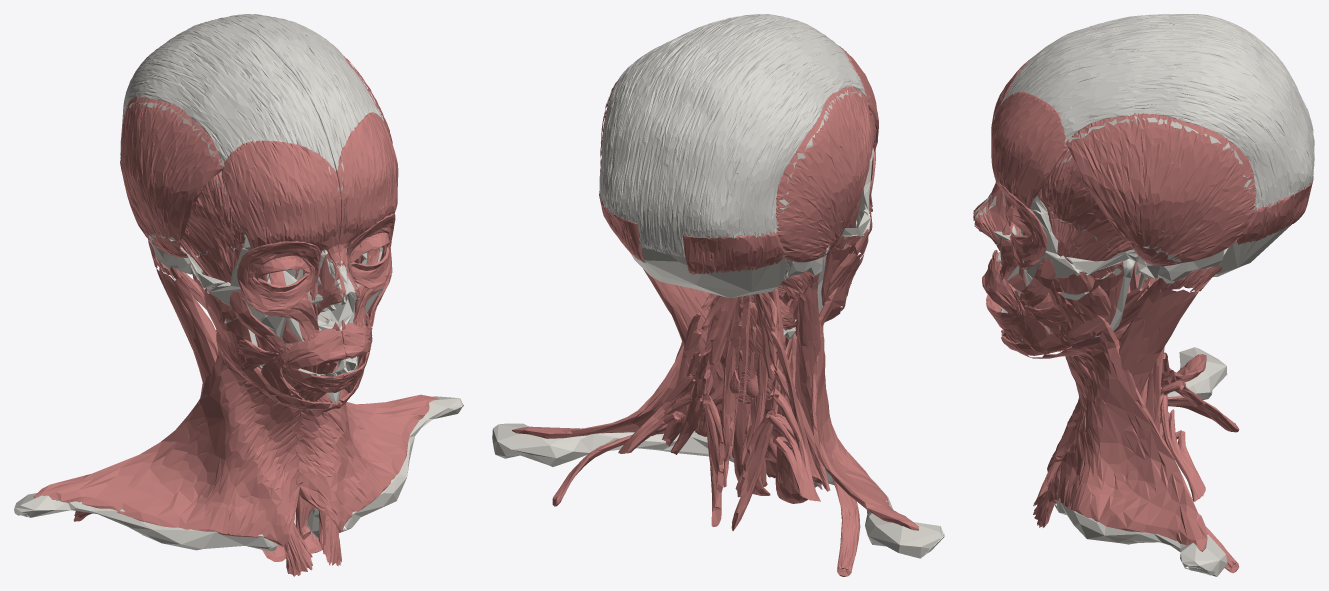
File: v3-musc-head-neck.glb
3 renders of one model, left to right at view 1: azimuth 30°, elevation 25°; view 2: azimuth 150°, elevation 25°; view 3: azimuth 270°, elevation 25°, orthographic.
Parts seen in each view (by area): view 1: Platysma.r#59, Epicranial aponeurosis.r#149, Platysma.l#50, Frontalis muscle.r#151, Temporoparietalis muscle.r#143, Epicranial aponeurosis.l#145, Frontalis muscle.l#147, Clavicle.r#177, Orbital part of orbicularis oculi.r#136, Temporalis muscle.r#73, Orbicularis oris muscle.r#132, Sternocleidomastoid muscle.r#64 (+19 smaller); view 2: Epicranial aponeurosis.r#149, Epicranial aponeurosis.l#145, Temporoparietalis muscle.r#143, Longus colli muscle.l#45, Platysma.r#59, Longus colli muscle.r#54, Clavicle.l#175, Occipital bone#274, Occipitalis muscle.r#150, Platysma.l#50, Sternocleidomastoid muscle.r#64, Sternocleidomastoid muscle.l#62 (+20 smaller); view 3: Epicranial aponeurosis.l#145, Temporoparietalis muscle.l#141, Platysma.l#50, Frontalis muscle.l#147, Sternocleidomastoid muscle.l#62, Epicranial aponeurosis.r#149, Temporalis muscle.l#71, Clavicle.l#175, Temporal bone.l#213, Occipitalis muscle.l#146, Temporoparietalis muscle.l#142, Temporalis muscle.l#72 (+23 smaller).
Part boxes in pixels (bbox=[...]): Platysma.r#59: bbox=[33, 340, 303, 546]; Epicranial aponeurosis.r#149: bbox=[120, 19, 335, 171]; Platysma.l#50: bbox=[295, 370, 438, 532]; Frontalis muscle.r#151: bbox=[221, 140, 340, 250]; Temporoparietalis muscle.r#143: bbox=[121, 103, 222, 241]; Epicranial aponeurosis.l#145: bbox=[215, 14, 383, 171]; Frontalis muscle.l#147: bbox=[340, 112, 398, 244]; Clavicle.r#177: bbox=[14, 493, 273, 551]; Orbital part of orbicularis oculi.r#136: bbox=[237, 241, 320, 310]; Temporalis muscle.r#73: bbox=[173, 177, 245, 259]; Orbicularis oris muscle.r#132: bbox=[278, 328, 346, 392]; Sternocleidomastoid muscle.r#64: bbox=[156, 267, 222, 386]; Epicranial aponeurosis.r#149: bbox=[659, 17, 866, 257]; Epicranial aponeurosis.l#145: bbox=[599, 14, 784, 252]; Temporoparietalis muscle.r#143: bbox=[776, 89, 873, 262]; Longus colli muscle.l#45: bbox=[701, 293, 743, 526]; Platysma.r#59: bbox=[790, 301, 918, 530]; Longus colli muscle.r#54: bbox=[731, 292, 778, 530]; Clavicle.l#175: bbox=[492, 423, 734, 466]; Occipital bone#274: bbox=[631, 247, 787, 298]; Occipitalis muscle.r#150: bbox=[682, 232, 783, 274]; Platysma.l#50: bbox=[512, 291, 777, 444]; Sternocleidomastoid muscle.r#64: bbox=[795, 279, 820, 435]; Sternocleidomastoid muscle.l#62: bbox=[643, 269, 769, 443]; Epicranial aponeurosis.l#145: bbox=[1002, 26, 1314, 210]; Temporoparietalis muscle.l#141: bbox=[1066, 116, 1255, 262]; Platysma.l#50: bbox=[1028, 325, 1207, 551]; Frontalis muscle.l#147: bbox=[991, 91, 1068, 208]; Sternocleidomastoid muscle.l#62: bbox=[1119, 285, 1198, 394]; Epicranial aponeurosis.r#149: bbox=[1001, 14, 1314, 154]; Temporalis muscle.l#71: bbox=[1038, 157, 1143, 253]; Clavicle.l#175: bbox=[1056, 498, 1227, 576]; Temporal bone.l#213: bbox=[1066, 245, 1224, 289]; Occipitalis muscle.l#146: bbox=[1237, 176, 1313, 244]; Temporoparietalis muscle.l#142: bbox=[1066, 113, 1256, 266]; Temporalis muscle.l#72: bbox=[1049, 150, 1117, 292].
Bounding box in the file's own units: 0.9475 × 1 × 0.6298.
